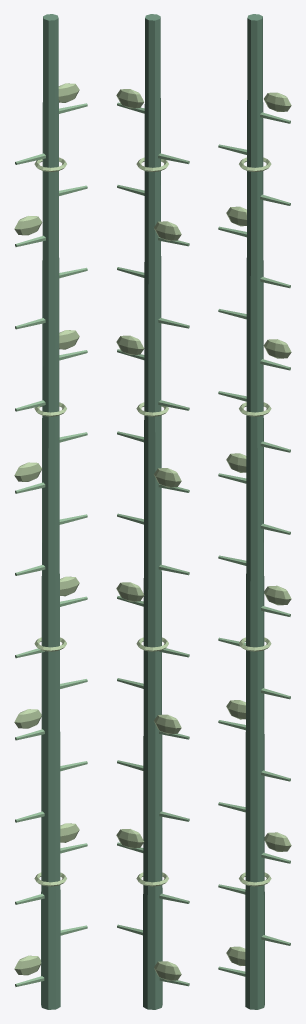
Rendered from enredadera_central.glb.
The picture shows the model from 3 angles, left to right: view 1: azimuth 30°, elevation 25°; view 2: azimuth 150°, elevation 25°; view 3: azimuth 330°, elevation 25°; orthographic projection.
Parts seen in each view (by area): view 1: enredadera_central; view 2: enredadera_central; view 3: enredadera_central.
Part boxes in pixels (bbox=[...]): enredadera_central: bbox=[14, 14, 87, 1009]; enredadera_central: bbox=[116, 14, 189, 1009]; enredadera_central: bbox=[218, 14, 291, 1009].
Bounding box in the file's own units: 0.7608 × 10.1 × 0.304.
